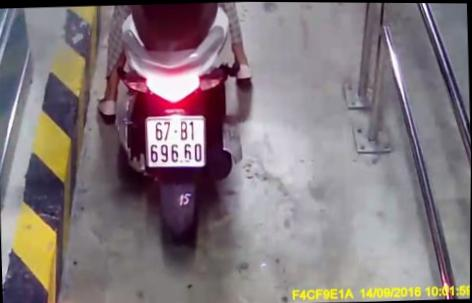LP: (144, 112, 209, 169)
